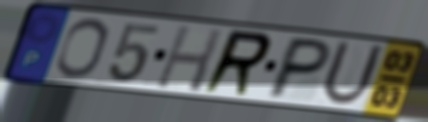5: (106, 20, 163, 84)
H: (152, 23, 226, 95)
O: (52, 16, 111, 81)
P: (262, 35, 336, 101)
R: (198, 28, 275, 99)
U: (317, 38, 388, 109)
